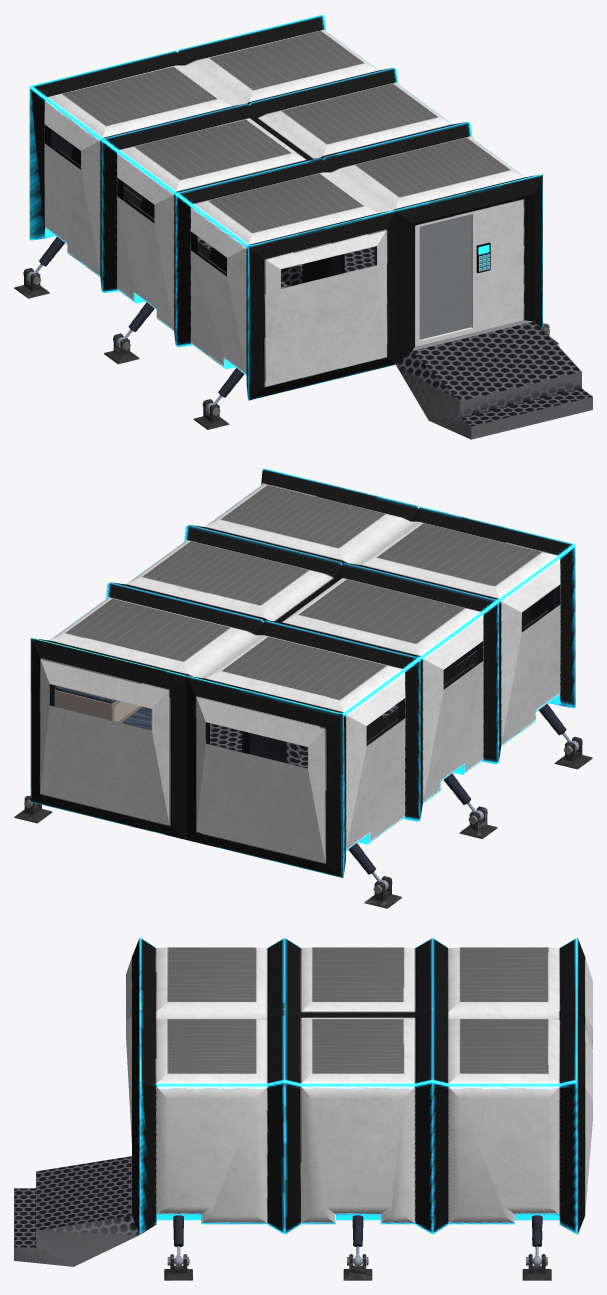
File: sci_fi_base_camp_shelter.glb
The picture shows the model from 3 angles, top to bottom: view 1: azimuth 30°, elevation 25°; view 2: azimuth 150°, elevation 25°; view 3: azimuth 270°, elevation 25°; orthographic projection. The views are drawn at different scales.
Parts seen in each view (by area): view 1: enclosdeShelter_01, door_01; view 2: enclosdeShelter_01, bed_02; view 3: enclosdeShelter_01.
Boxes of the visible parts, <box> form: enclosdeShelter_01: <box>14,14,592,439</box>; door_01: <box>419,214,471,339</box>; enclosdeShelter_01: <box>14,468,592,908</box>; bed_02: <box>54,686,142,722</box>; enclosdeShelter_01: <box>14,937,592,1280</box>.
Bounding box in the file's own units: 5.49 × 2.78 × 7.83.
Materials: 2 (2 with a texture image).
